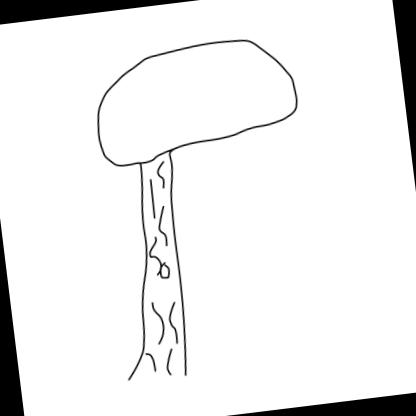crown_mushroom: (84, 30, 304, 171)
trunk_bark: (126, 210, 193, 348)
